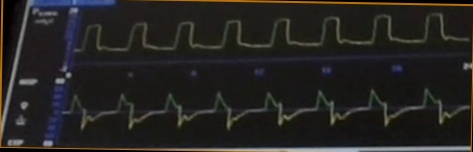Premature_cycling Flow: (65, 79, 470, 138)
